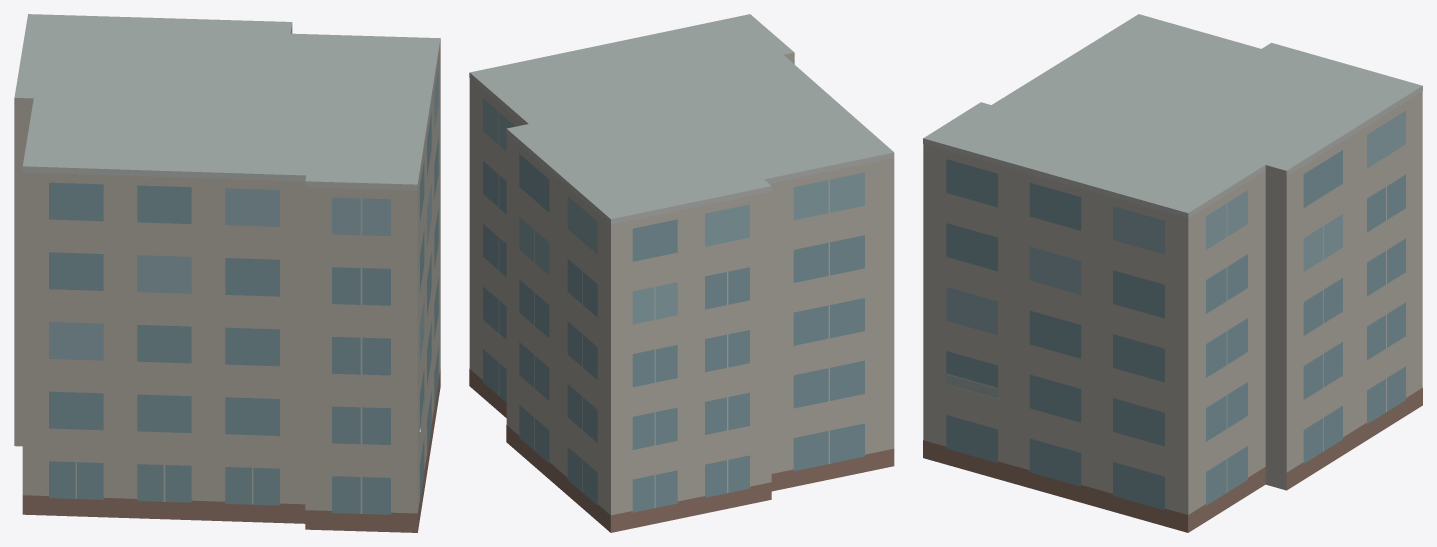
Rendered from survey-upis-32539339.glb.
3 renders of one model, left to right at view 1: azimuth 30°, elevation 25°; view 2: azimuth 150°, elevation 25°; view 3: azimuth 270°, elevation 25°, orthographic. The views are drawn at different scales.
Parts seen in each view (by area): view 1: survey-upis-32539339.tmp; view 2: survey-upis-32539339.tmp; view 3: survey-upis-32539339.tmp.
Part boxes in pixels (<box>): survey-upis-32539339.tmp: <box>14,14,440,532</box>; survey-upis-32539339.tmp: <box>469,14,894,532</box>; survey-upis-32539339.tmp: <box>923,14,1422,532</box>.
Bounding box in the file's own units: 18.72 × 14 × 19.84.
